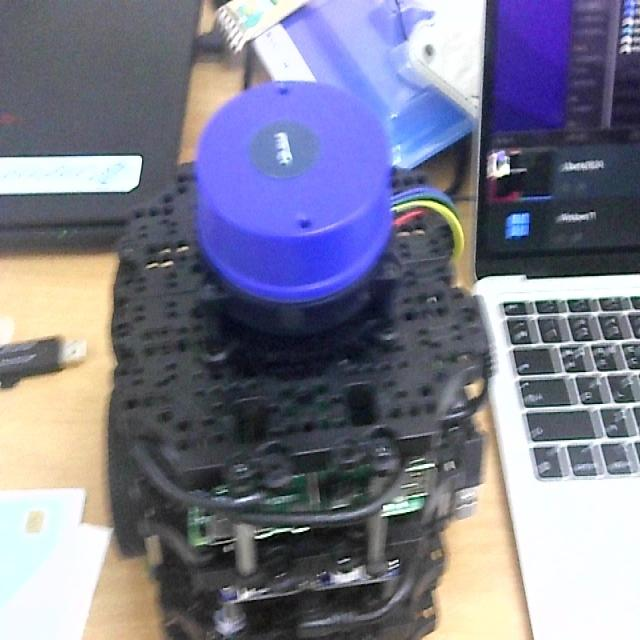turtle: (102, 76, 496, 640)
